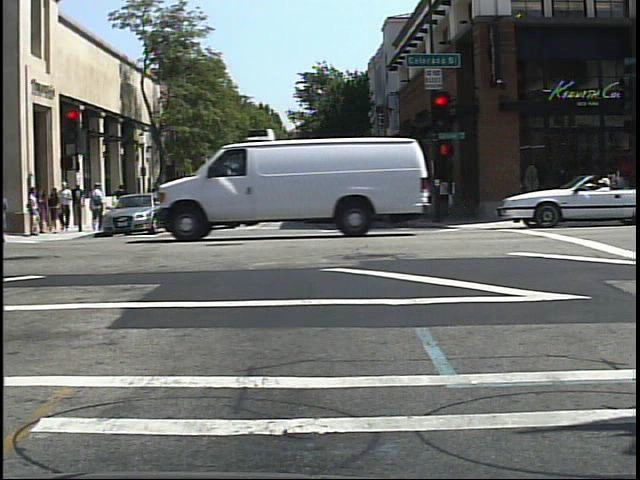person: (86, 180, 106, 232)
